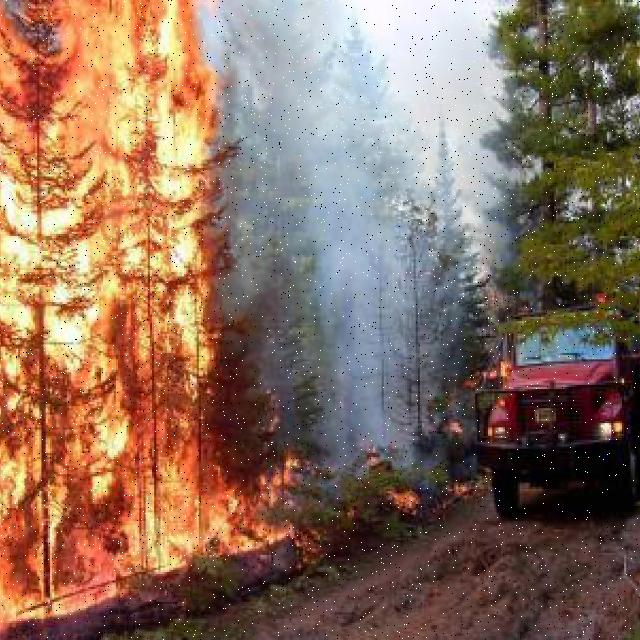fire: (0, 1, 213, 539), (226, 457, 303, 557), (367, 480, 424, 521), (443, 463, 486, 504)
smoke: (301, 29, 418, 463)
